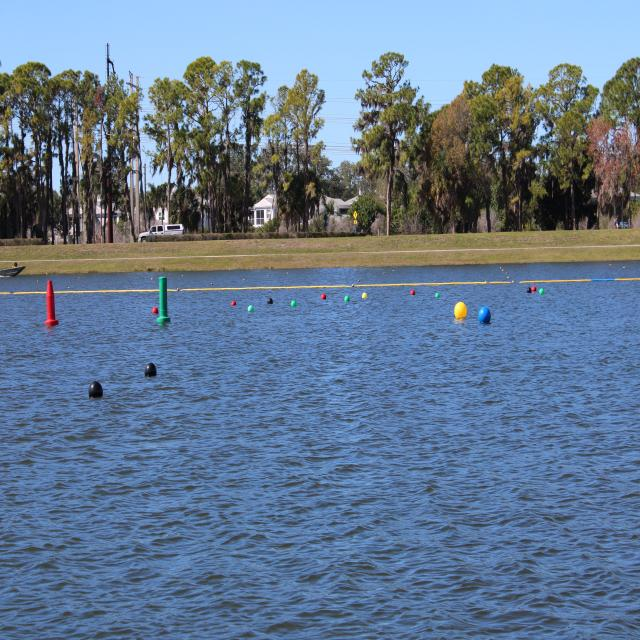black-buoy: (90, 382, 104, 400), (145, 361, 157, 378)
blue-buoy: (480, 304, 492, 324)
green-buoy: (248, 306, 254, 314), (435, 291, 440, 299), (346, 294, 350, 302)
green-column-buoy: (156, 276, 169, 323)
red-buoy: (321, 292, 327, 300), (412, 289, 417, 296)
red-column-buoy: (47, 279, 60, 325)
yellow-buoy: (452, 300, 466, 319)
